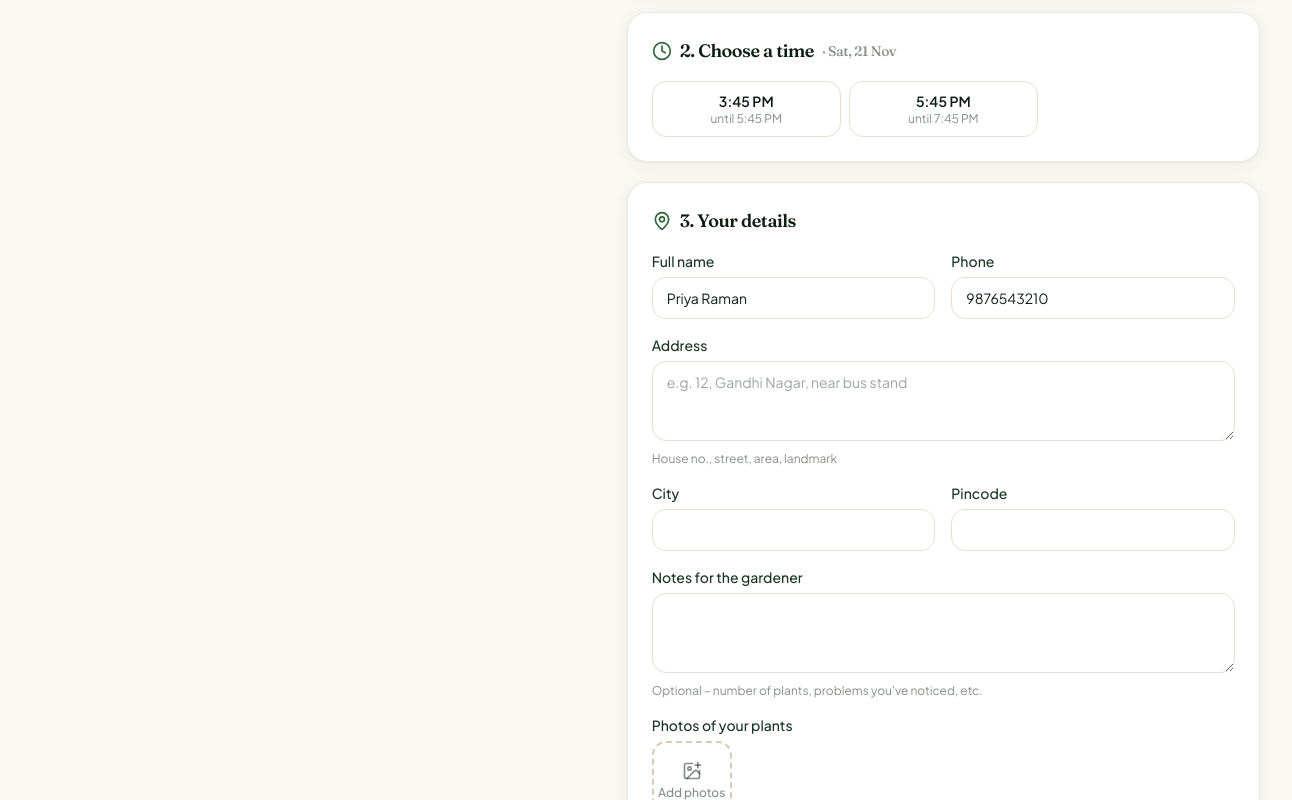
booking a service: the reported bug › address "test" → message under Address, the time stays selected and the button still works
This screenshot has width=1292, height=800.
(page scrolled)
Expected: the field labelled "Full name" holds "Priya Raman", [652,277,935,319]
Step 1. Type "test" into the text box labelled "Address" → point(943, 401), box [652,361,1235,441]
Step 2. Type "Coimbatore" into the field labelled "City" → point(794, 530), box [652,509,935,551]
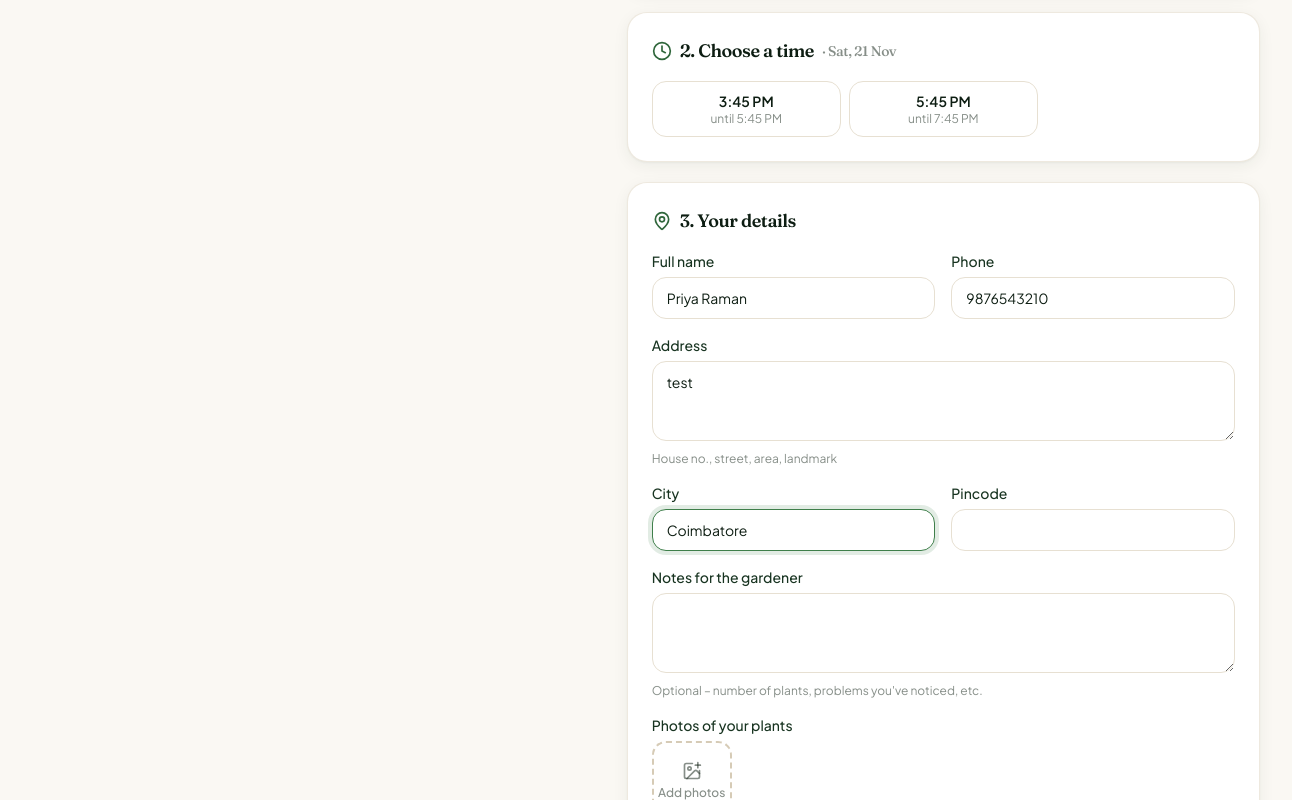
Step 3. Type "641046" into the field labelled "Pincode" → point(1093, 530), box [951,509,1235,551]
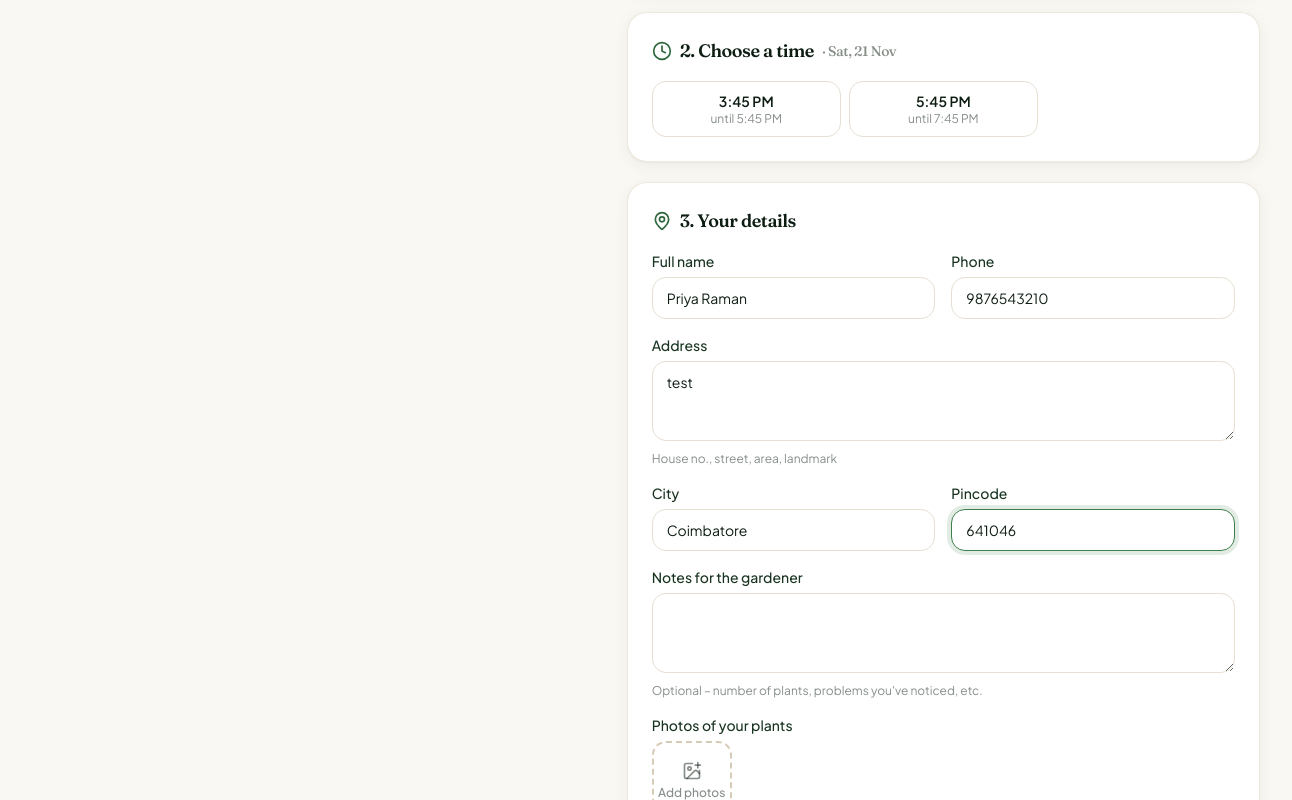
Step 4. Click the button "3:45 PM until 5:45 PM" → point(746, 109), box [652,81,841,137]
(page scrolled)
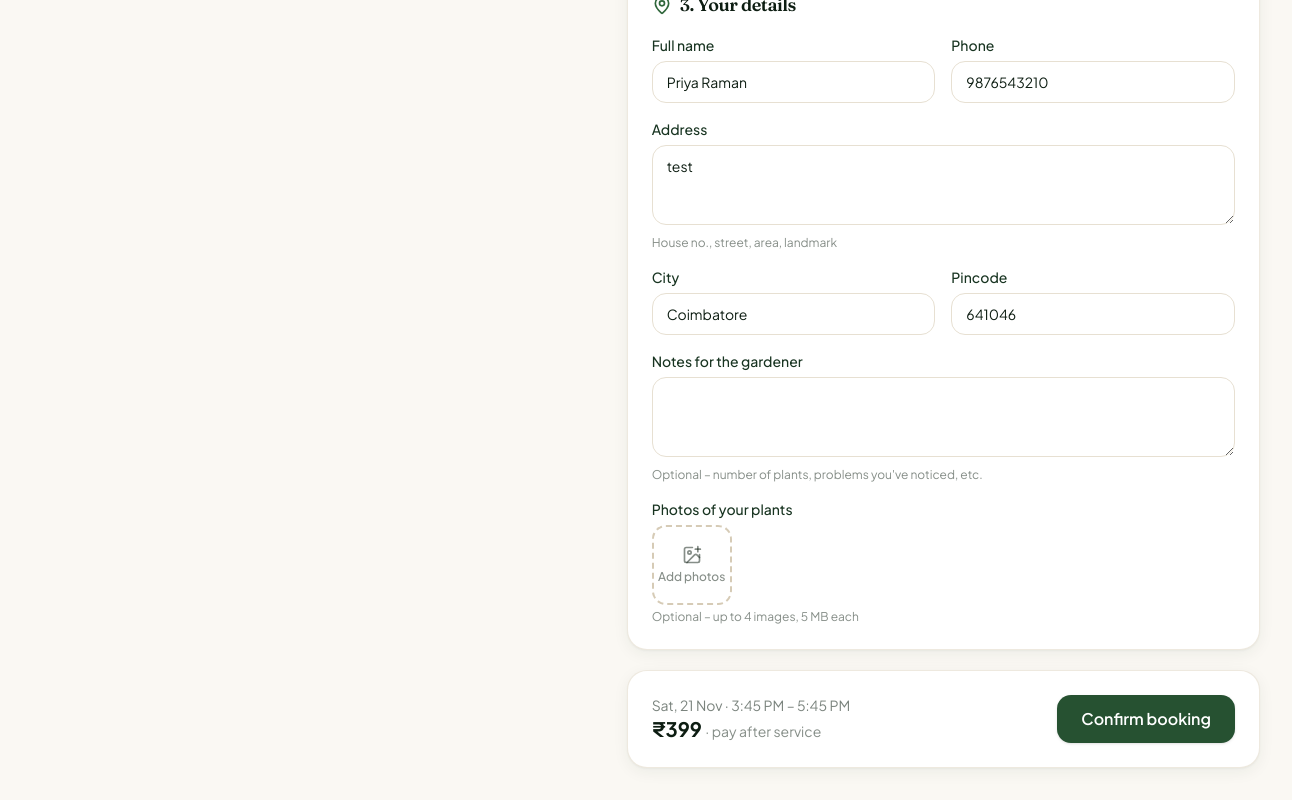
Step 5. Click the button "Confirm booking" → point(1146, 719), box [1057,695,1235,743]
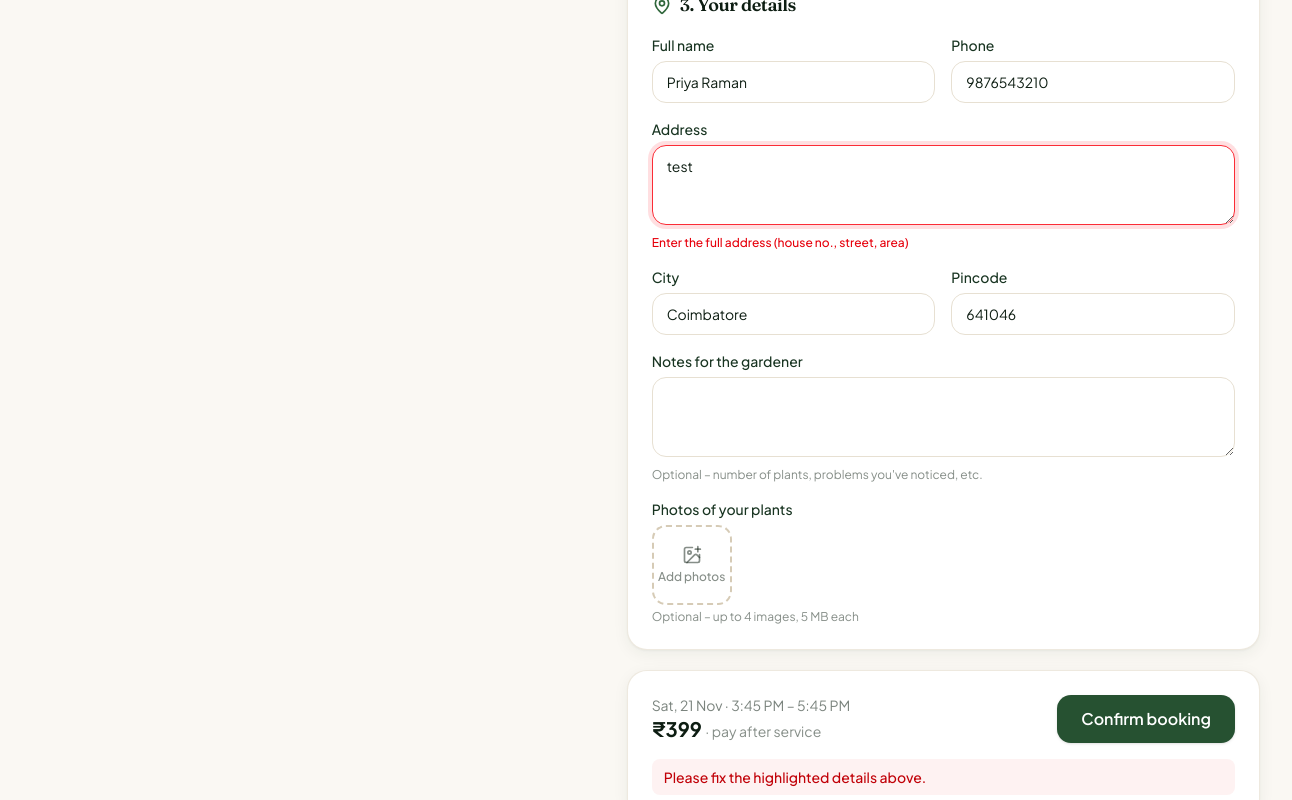
Result: the text "Enter the full address (house no., street, area)" is shown at [652,235,909,250]
Step 6. Type " road, 12 Gandhi Nagar, near bus stand" into the text box labelled "Address" → point(943, 185), box [652,145,1235,225]
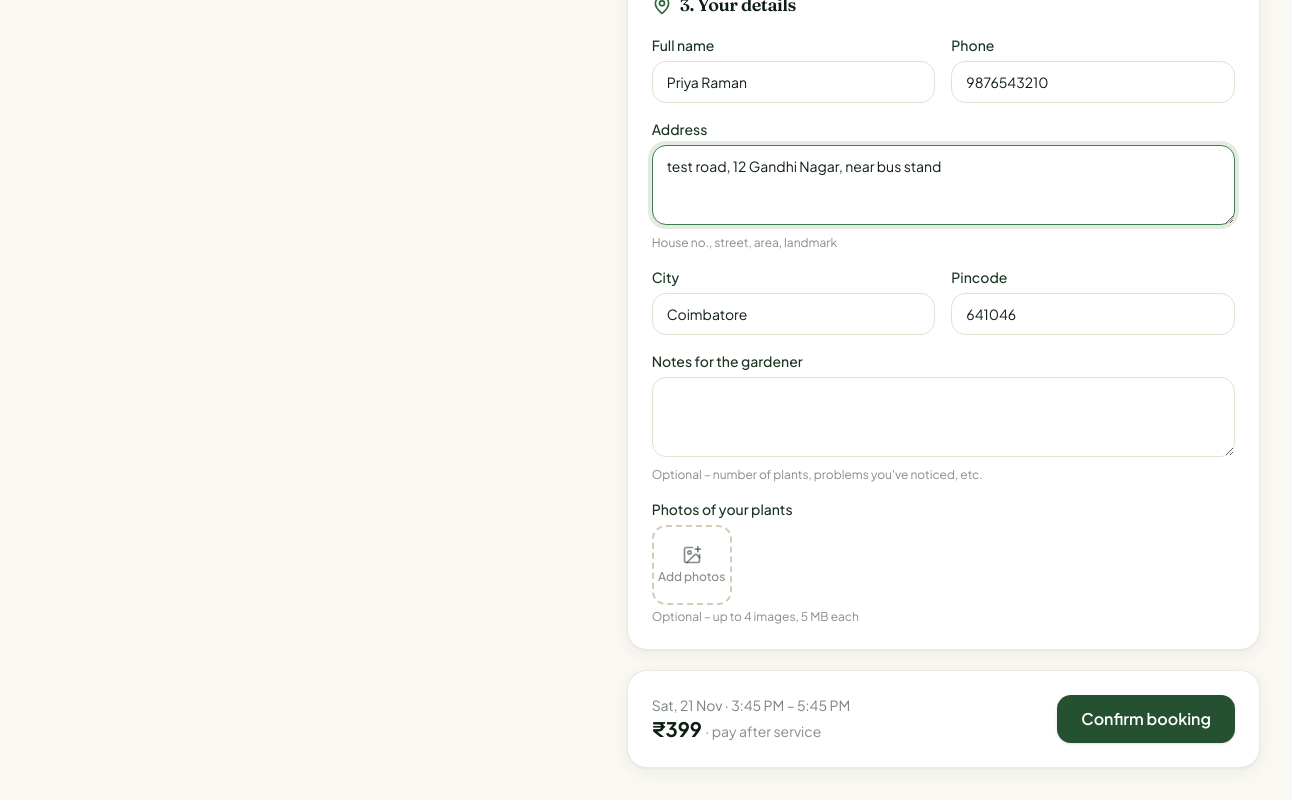
Result: the text "Enter the full address (house no., street, area)" is gone
Step 7. Click the button "Confirm booking" → point(1146, 719), box [1057,695,1235,743]
(page scrolled)
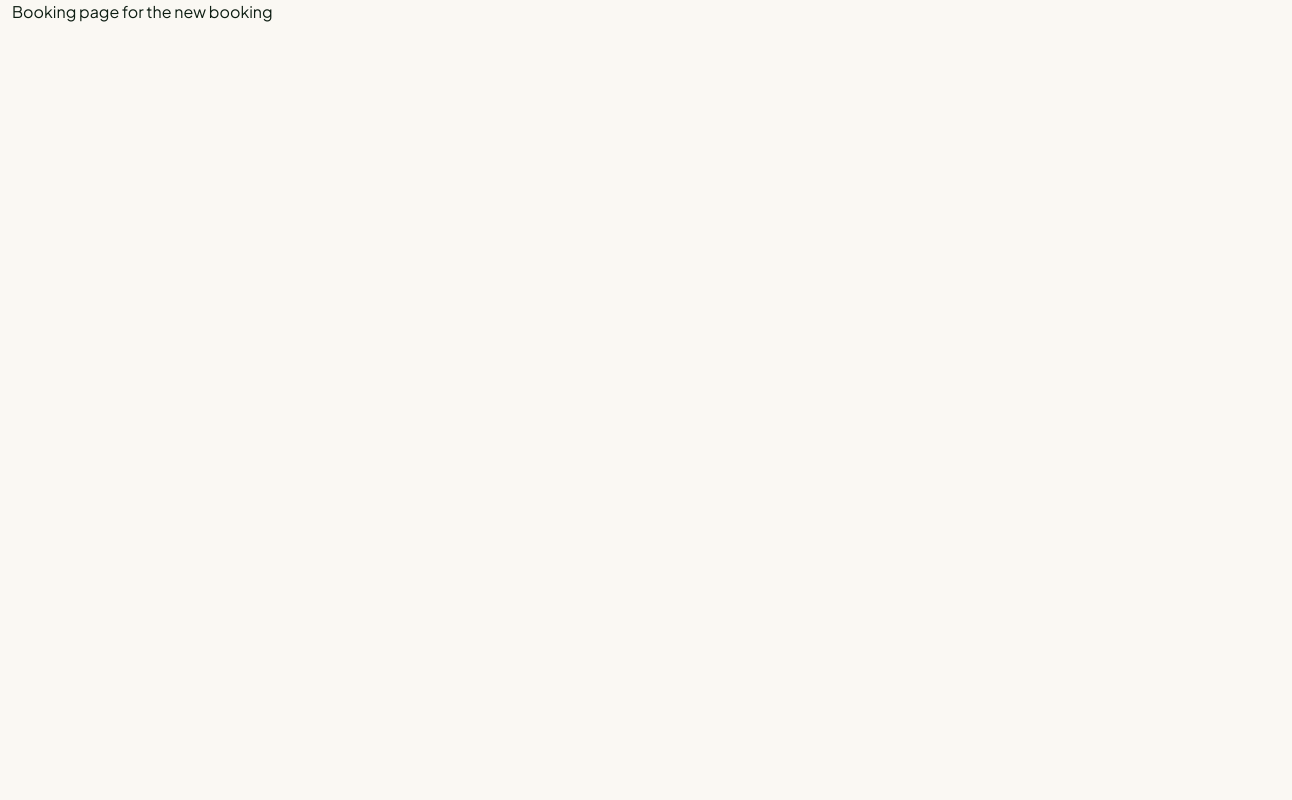
Result: the text "Booking page for the new booking" is shown at [12,1,273,22]
